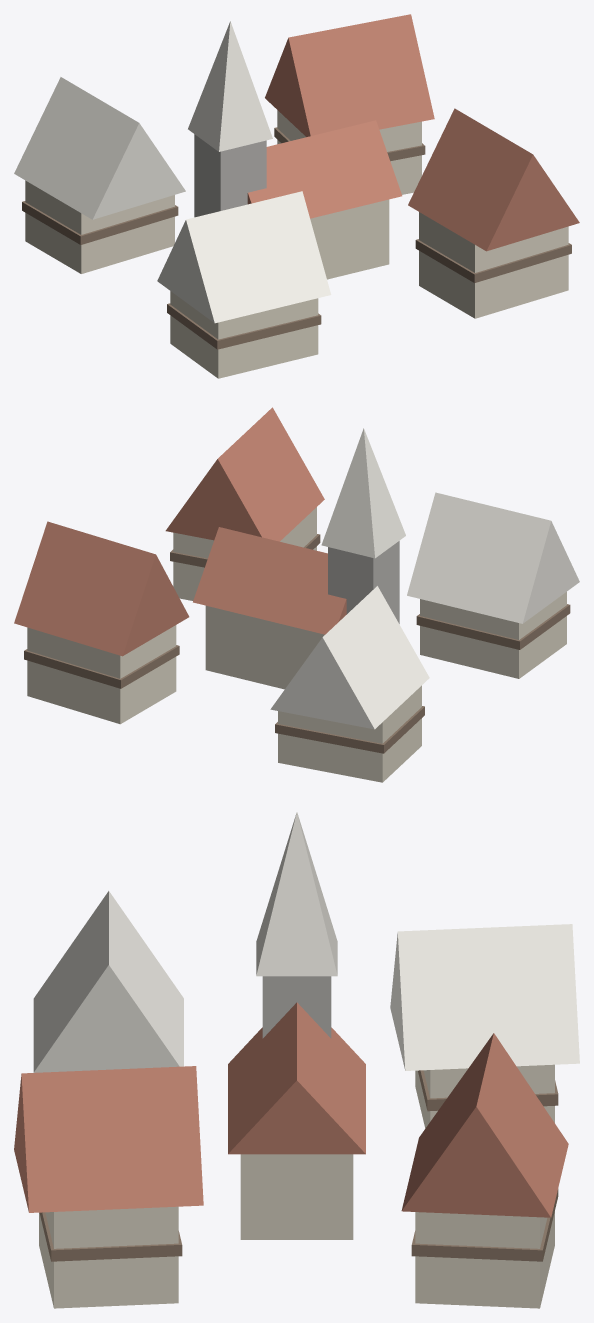
File: town.glb
3 renders of one model, top to bottom at view 1: azimuth 30°, elevation 25°; view 2: azimuth 150°, elevation 25°; view 3: azimuth 270°, elevation 25°, orthographic. The views are drawn at different scales.
Visible parts, largest first — view 1: medieval_town; view 2: medieval_town; view 3: medieval_town.
Part boxes in pixels (x1=…): medieval_town: x1=14, y1=14, x2=579, y2=378; medieval_town: x1=14, y1=407, x2=579, y2=782; medieval_town: x1=14, y1=812, x2=579, y2=1308.
Size of the model in its own units: 0.8913 by 0.6 by 0.9026.
